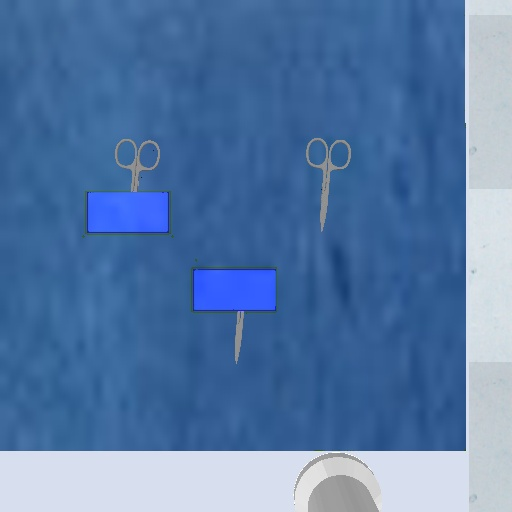tijera: (298, 131, 357, 237), (108, 134, 165, 192), (229, 310, 250, 366)
